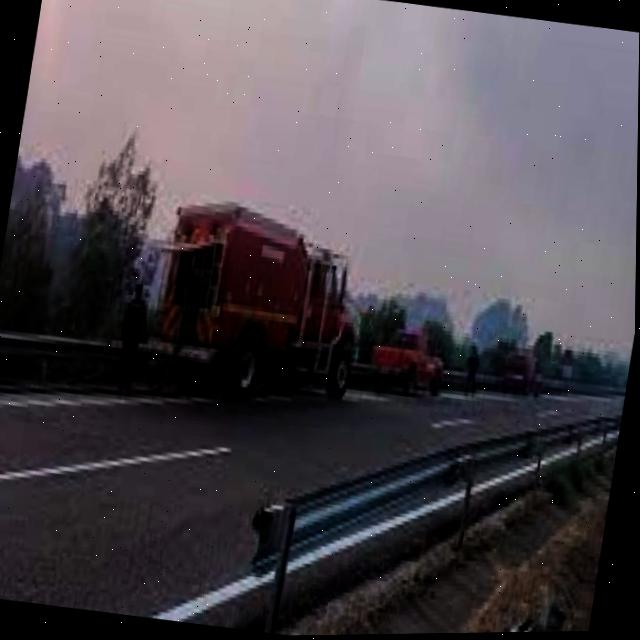emergency: (143, 144, 404, 419)
